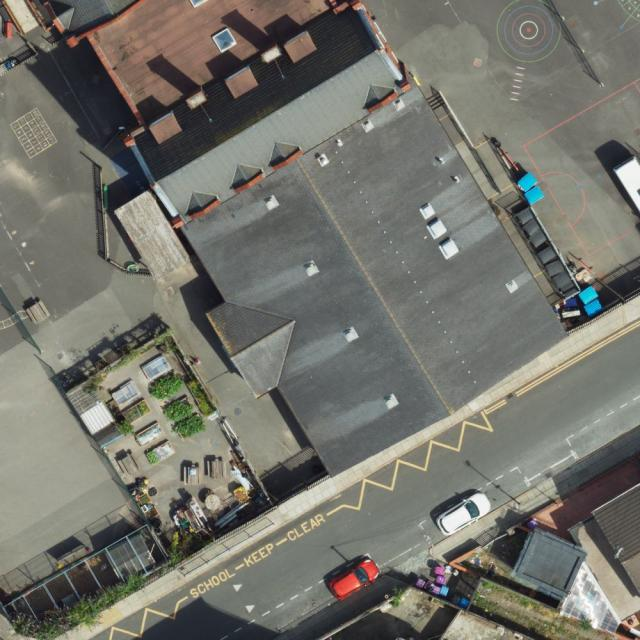roof: (42, 3, 570, 477)
skylight: (211, 26, 238, 54)
